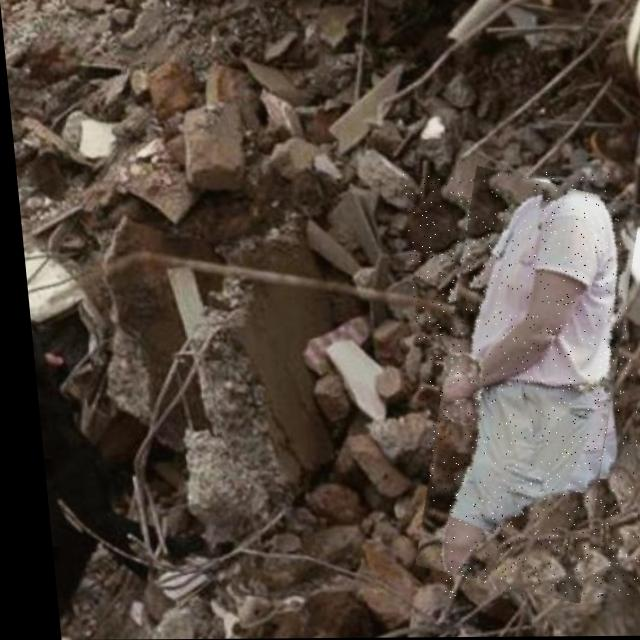Person in Rubble: (397, 173, 640, 599)
